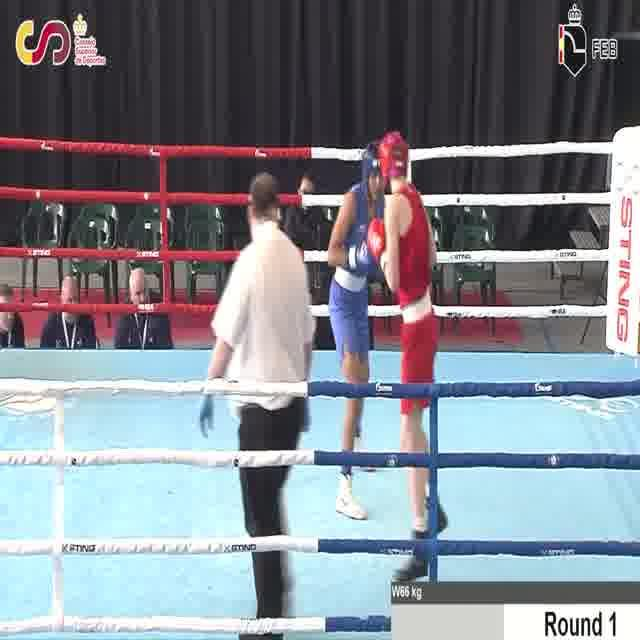blue-player: (320, 140, 395, 524)
red-player: (364, 128, 449, 586)
referee: (197, 169, 318, 640)
